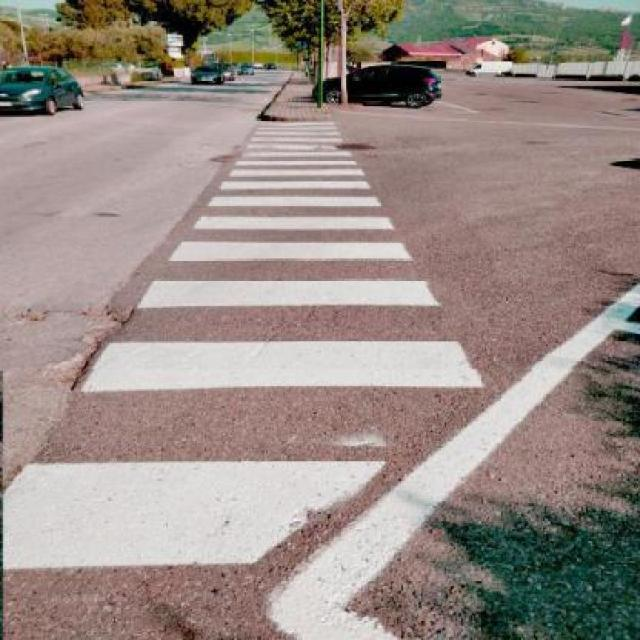crosswalk: (1, 121, 487, 570)
